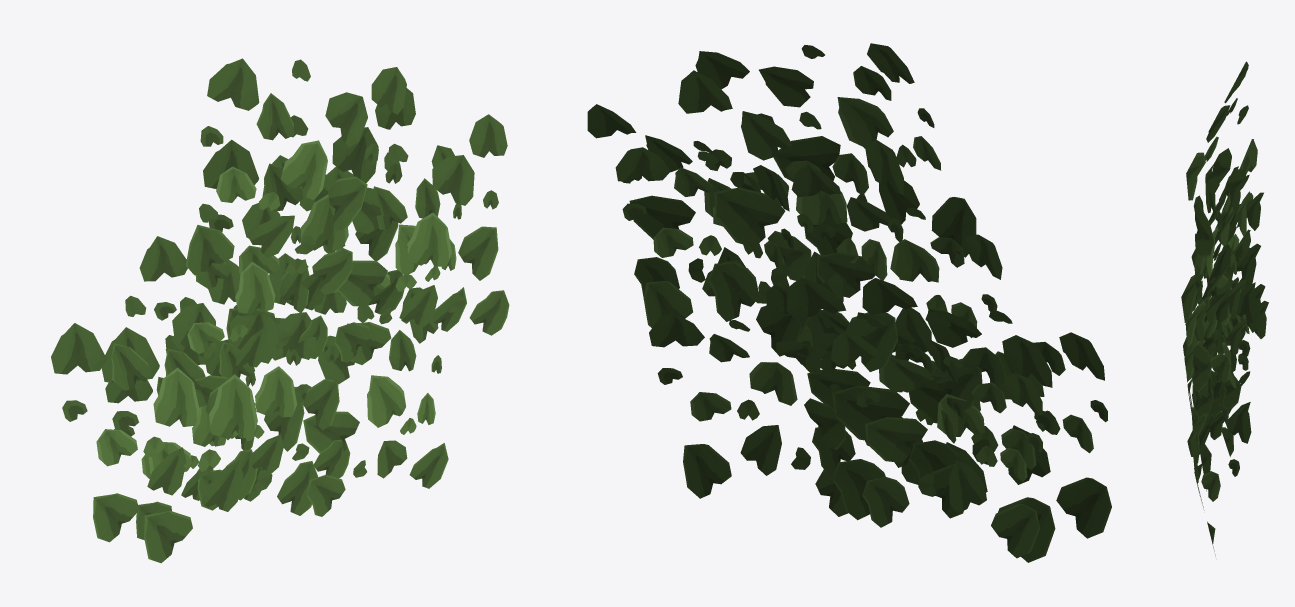
Rendered from SM_Env_Vines_04.fbx.
3 views of the same model, side by side, from view 1: azimuth 30°, elevation 25°; view 2: azimuth 150°, elevation 25°; view 3: azimuth 270°, elevation 25° (orthographic). The views are drawn at different scales.
Parts seen in each view (by area): view 1: SM_Env_Vines_04_LOD0; view 2: SM_Env_Vines_04_LOD0; view 3: SM_Env_Vines_04_LOD0.
Part boxes in pixels (left/top/right/bottom): SM_Env_Vines_04_LOD0: left=51, top=58, right=509, bottom=563; SM_Env_Vines_04_LOD0: left=587, top=43, right=1111, bottom=562; SM_Env_Vines_04_LOD0: left=1181, top=61, right=1268, bottom=555.
Size of what is drawn, in the model's own units: 357 by 354 by 68.3.
